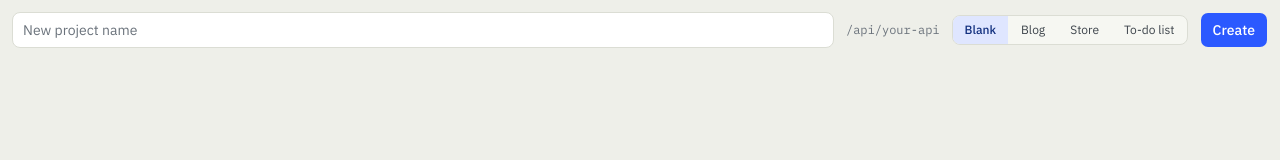
asks for a name before creating
The width and height of the screenshot is (1280, 160).
Click the button "Create" at (1234, 30), box [1200,12,1268,48]
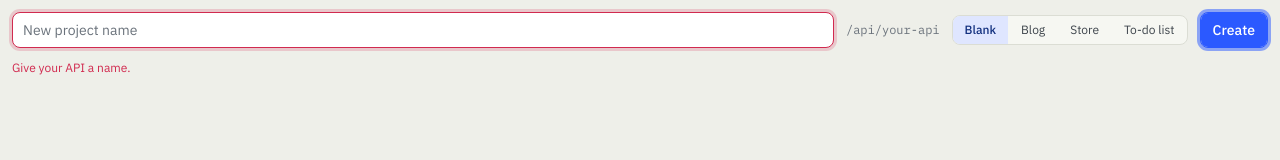
Expected: the message reads "Give your API a name.", [12,60,130,75]
